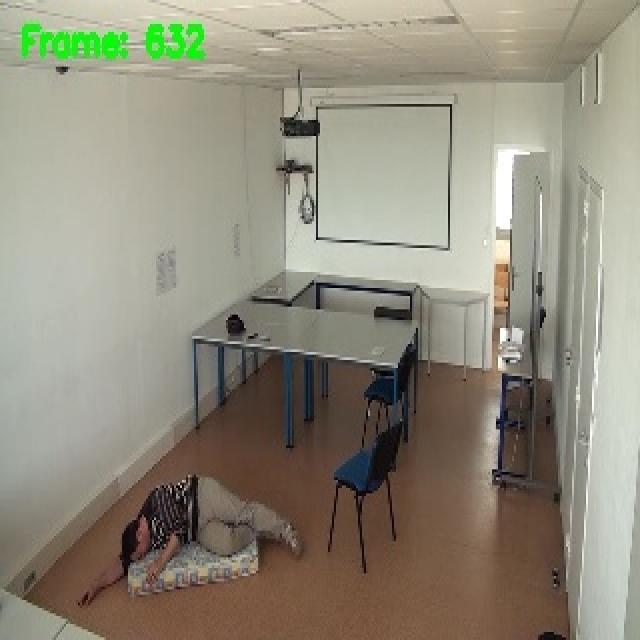Fall-Detected: (73, 471, 309, 611)
